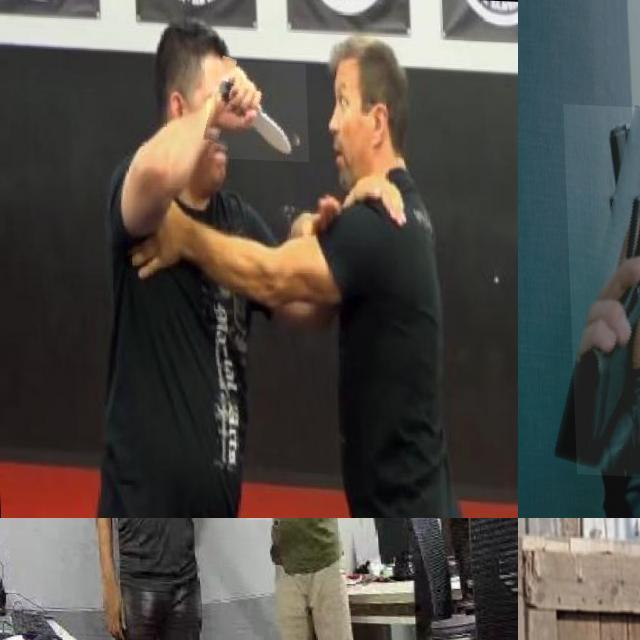-: (204, 58, 308, 160), (242, 518, 295, 538)
gun-knife-thesis - v11 Yolov5 augmented: (562, 103, 640, 477), (518, 518, 565, 640)
